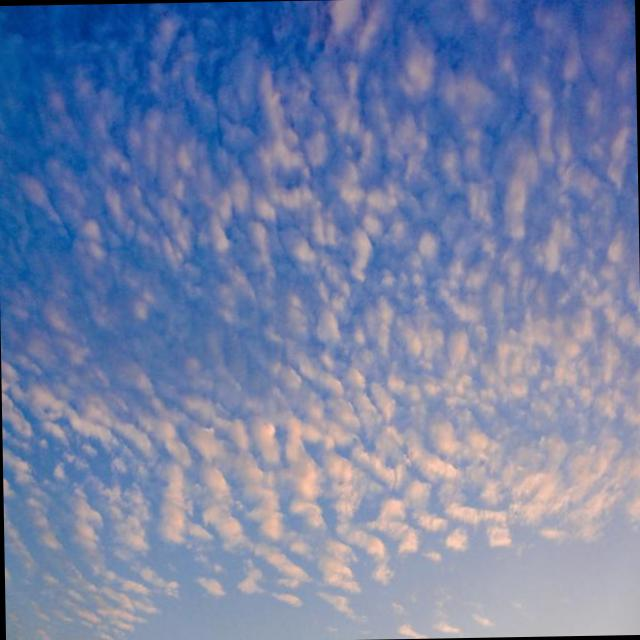altocumulus: (21, 29, 626, 598)
